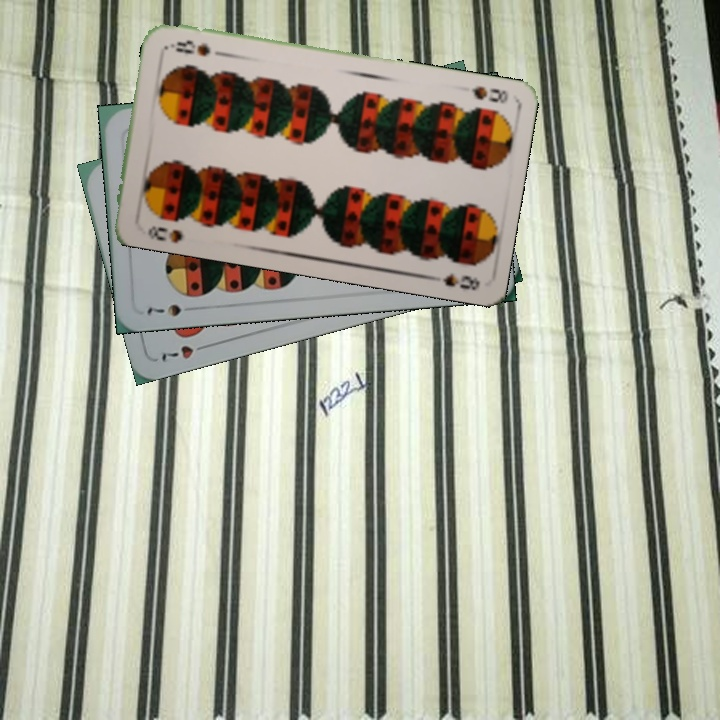H7: (157, 339, 213, 364)
S7: (143, 300, 183, 319)
S8: (143, 221, 186, 246), (467, 82, 511, 106)
